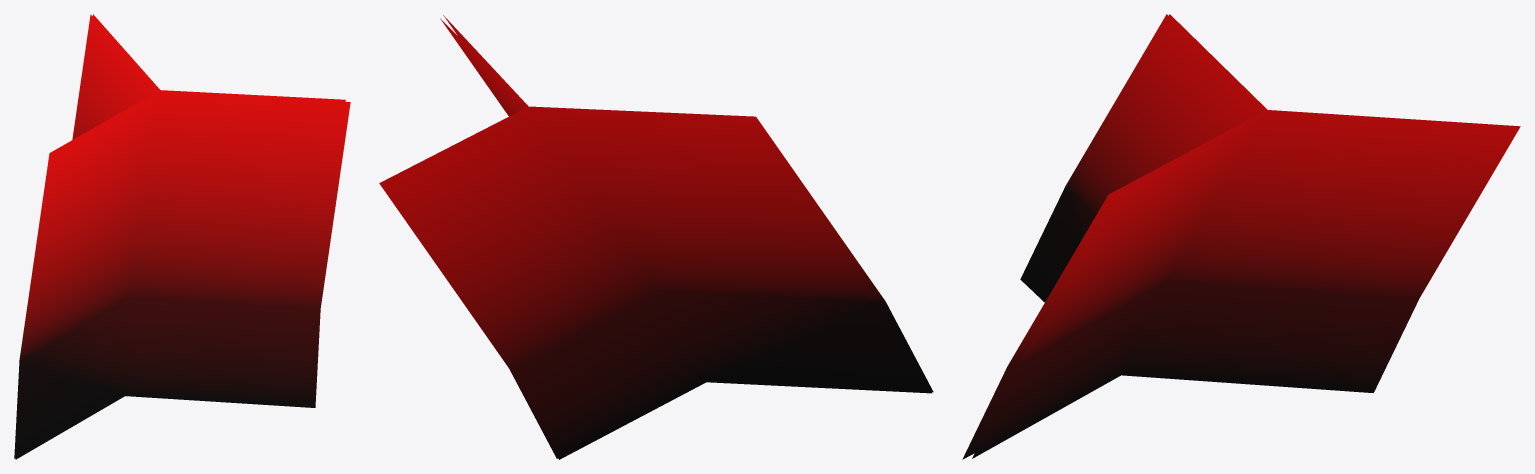
Rendered from SM_Grass_Small_01_a.FBX.
3 renders of one model, left to right at view 1: azimuth 30°, elevation 25°; view 2: azimuth 150°, elevation 25°; view 3: azimuth 270°, elevation 25°, orthographic. The views are drawn at different scales.
Visible parts, largest first — view 1: SM_Grass_Small_01_a_LOD0; view 2: SM_Grass_Small_01_a_LOD0; view 3: SM_Grass_Small_01_a_LOD0.
Boxes of the visible parts, <box> form: SM_Grass_Small_01_a_LOD0: <box>14,14,350,459</box>; SM_Grass_Small_01_a_LOD0: <box>379,15,933,459</box>; SM_Grass_Small_01_a_LOD0: <box>962,14,1520,459</box>.
Size of the model in its own units: 75.45 by 74.51 by 47.69.
